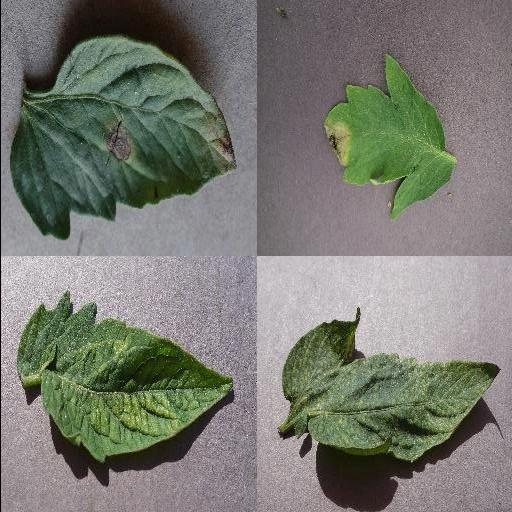Early Blight: (7, 38, 239, 242)
Late Blight: (323, 53, 453, 221)
Spider Mites: (15, 290, 233, 462), (281, 306, 499, 462)
